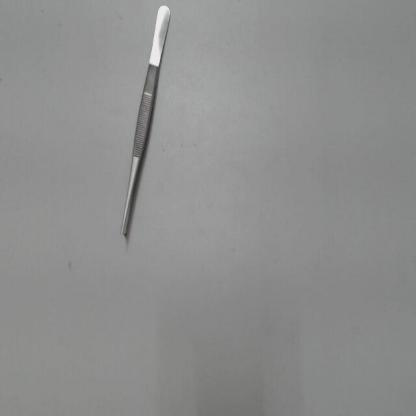Gillies Toothed Dissector: (113, 1, 188, 244)
